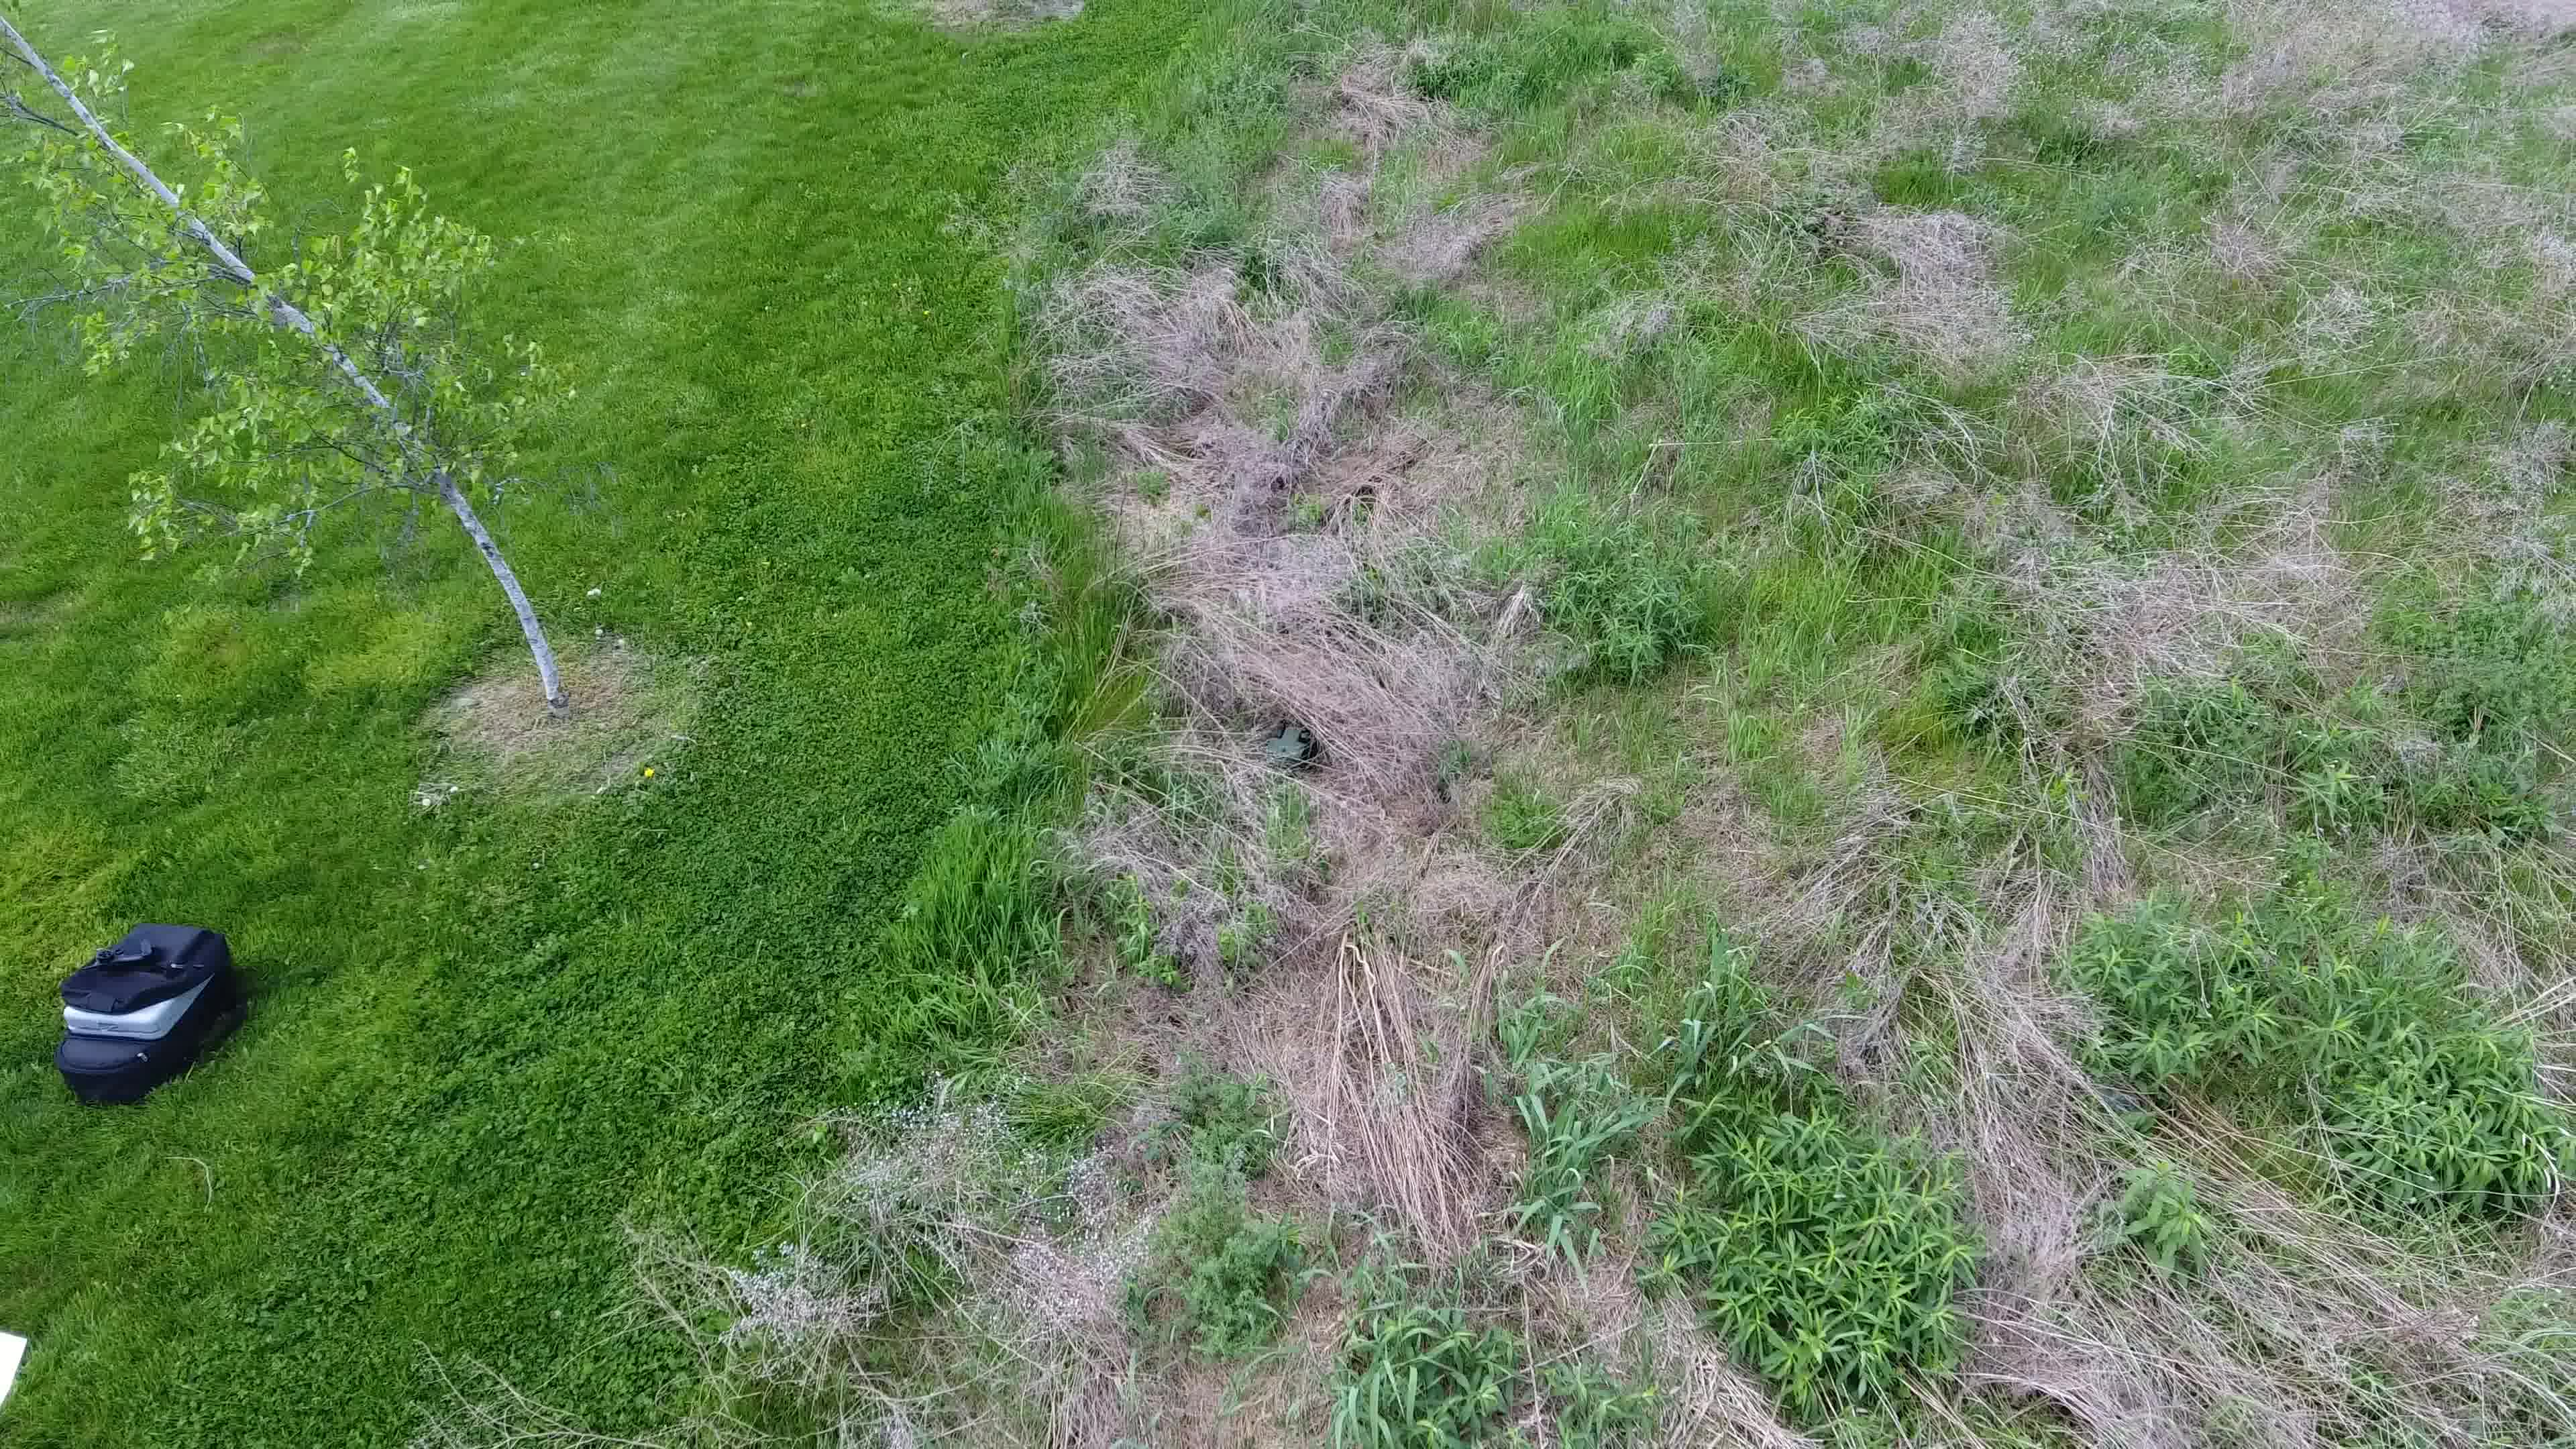transporter9: (1261, 722, 1322, 766)
